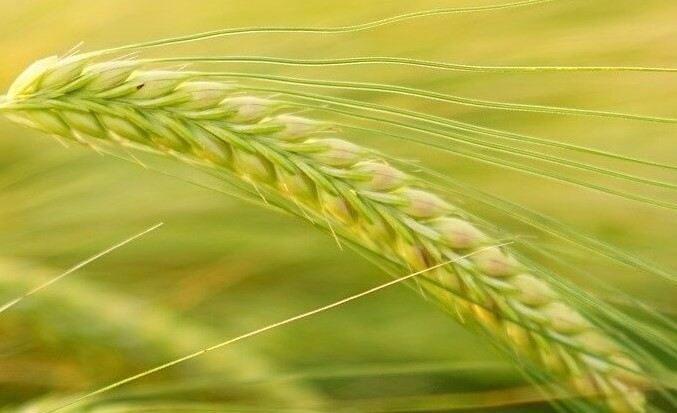Healthy Wheat: (42, 45, 607, 392)
